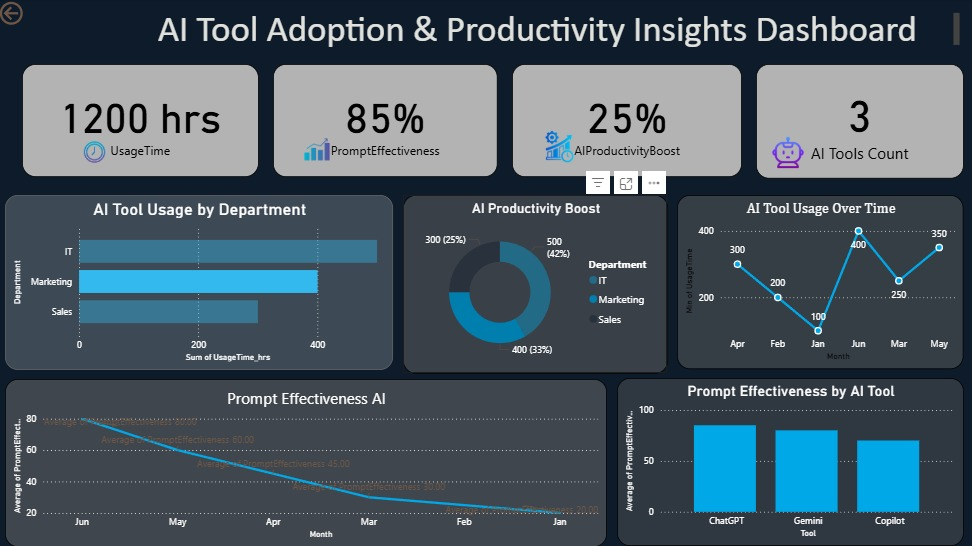

The dashboard page shown, as its layout file describes it:
{"tool":"powerbi","page":{"name":"Tool Analysis","canvas":[1280,720],"ordinal":0},"visuals":[{"type":"card","fields":{"Values":["AI_Usage_By_Department.UsageTime"]},"box":[33.8,86.7,310,148.4],"z":0},{"type":"card","fields":{"Values":["AI_Usage_By_Department.PromptEffectiveness"]},"box":[362.9,86.7,293.9,148.4],"z":1000},{"type":"card","fields":{"Values":["AI_Usage_By_Department.AIProductivityBoost"]},"box":[675.9,86.7,301.2,148.4],"z":2000},{"type":"textbox","box":[158.7,10.3,1107.9,60.2],"z":3000},{"type":"barChart","title":"AI Tool Usage by Department","fields":{"Category":["AI_Usage_By_Department.Department"],"Y":["Sum(AI_Usage_By_Department.UsageTime_hrs)"]},"box":[12.1,257.8,508.1,229.2],"z":4000},{"type":"lineChart","fields":{"Category":["PromptEffectiveness_Monthly.Month| ----- | ------------------- || Jan   | 20                  || Feb   | 25             "],"Y":["Avg(PromptEffectiveness_Monthly.PromptEffectiveness)"]},"box":[11.8,498.1,787.6,220.4],"z":5000},{"type":"lineChart","title":"AI Tool Usage Over Time","fields":{"Category":["AI_Usage_Over_Time.Month"],"Y":["Min(AI_Usage_Over_Time.UsageTime)"]},"box":[891,257.8,375.4,227.7],"z":6000},{"type":"donutChart","title":"AI Productivity Boost","fields":{"Category":["AI_Usage_By_Department.Department"],"Y":["Sum(AI_Usage_By_Department.UsageTime_hrs)"]},"box":[532.2,257.8,346.8,233.7],"z":7000},{"type":"clusteredColumnChart","title":"Prompt Effectiveness by AI Tool","fields":{"Category":["Prompt_Effectiveness_By_Tool.Tool"],"Y":["Avg(Prompt_Effectiveness_By_Tool.PromptEffectiveness)"]},"box":[812.6,497.5,453.8,220.1],"z":8000},{"type":"actionButton","box":[0,0,100,40],"z":9000},{"type":"card","fields":{"Values":["AI_Usage_By_Department.AI Tools Count"]},"box":[994.8,86.7,271.8,149.9],"z":10000},{"type":"image","box":[110.2,180.7,38.2,42.6],"z":10001},{"type":"image","box":[392.3,176.3,54.4,42.6],"z":10002},{"type":"image","box":[712.7,161.6,51.4,66.1],"z":10003},{"type":"image","box":[1009.5,176.3,54.4,51.4],"z":10004}]}

Visuals, with their boxes in screenshot pixels (x1, y1, x2, y2), scaled from the page's 1280x720 canvas onto the 972x546 screenshot:
card - AI_Usage_By_Department.UsageTime: 26/66/261/178
card - AI_Usage_By_Department.PromptEffectiveness: 276/66/499/178
card - AI_Usage_By_Department.AIProductivityBoost: 513/66/742/178
textbox: 121/8/962/53
"AI Tool Usage by Department" barChart: 9/195/395/369
lineChart - PromptEffectiveness_Monthly.Month| ----- | ------------------- || Jan   | 20                  || Feb   | 25              x Avg(PromptEffectiveness_Monthly.PromptEffectiveness): 9/378/607/545
"AI Tool Usage Over Time" lineChart: 677/195/962/368
"AI Productivity Boost" donutChart: 404/195/667/373
"Prompt Effectiveness by AI Tool" clusteredColumnChart: 617/377/962/544
actionButton: 0/0/76/30
card - AI_Usage_By_Department.AI Tools Count: 755/66/962/179
image: 84/137/113/169
image: 298/134/339/166
image: 541/123/580/173
image: 767/134/808/173
